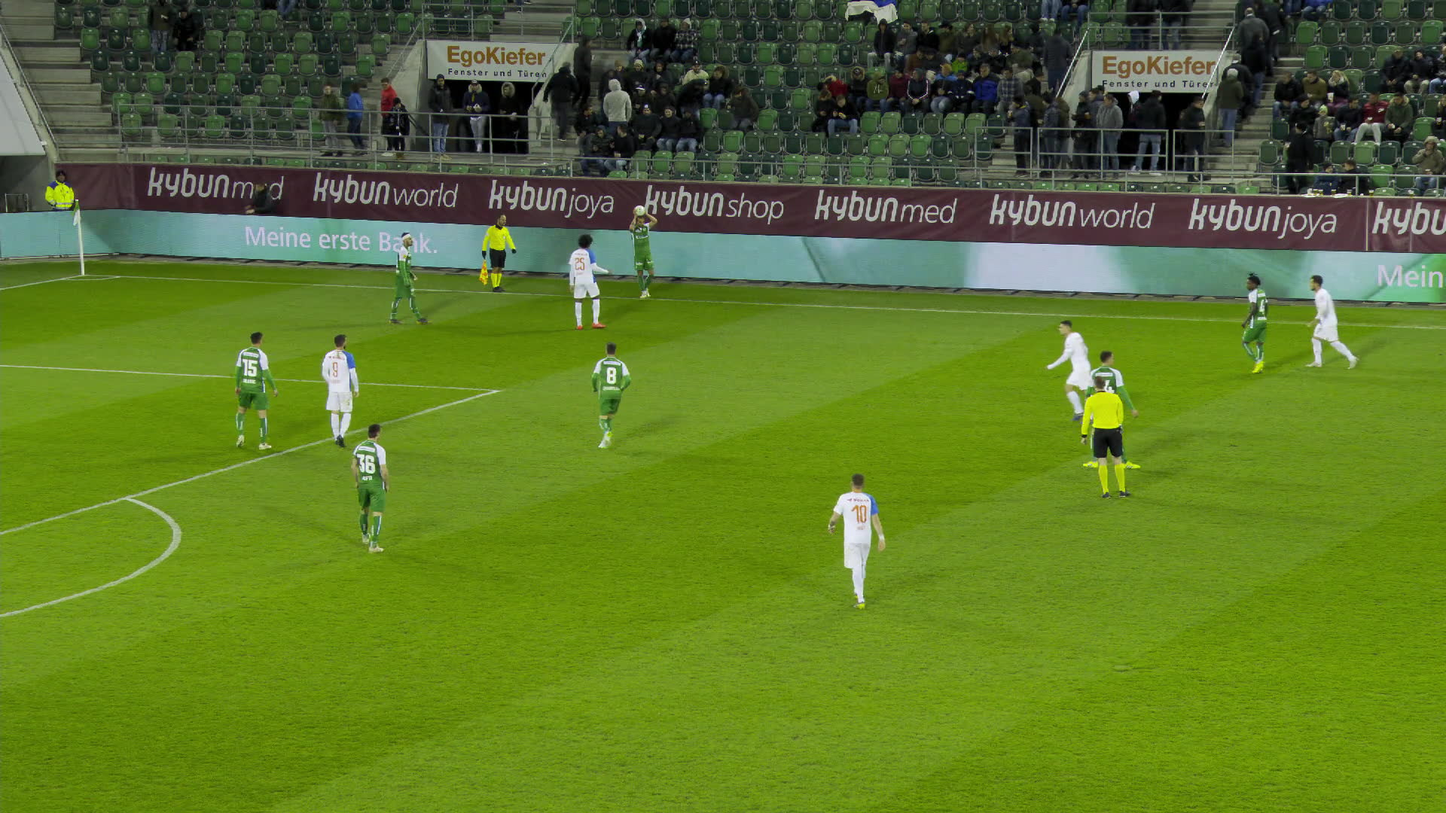ball: (636, 209, 646, 220)
player: (830, 474, 880, 605), (349, 425, 398, 549), (1049, 324, 1108, 422), (587, 339, 636, 449), (1077, 352, 1122, 467), (1298, 276, 1354, 367), (230, 330, 273, 447), (320, 334, 364, 446), (1230, 278, 1278, 373), (569, 233, 612, 330), (386, 232, 419, 321), (626, 216, 654, 299)
referee: (1081, 376, 1127, 492), (482, 215, 519, 290)
